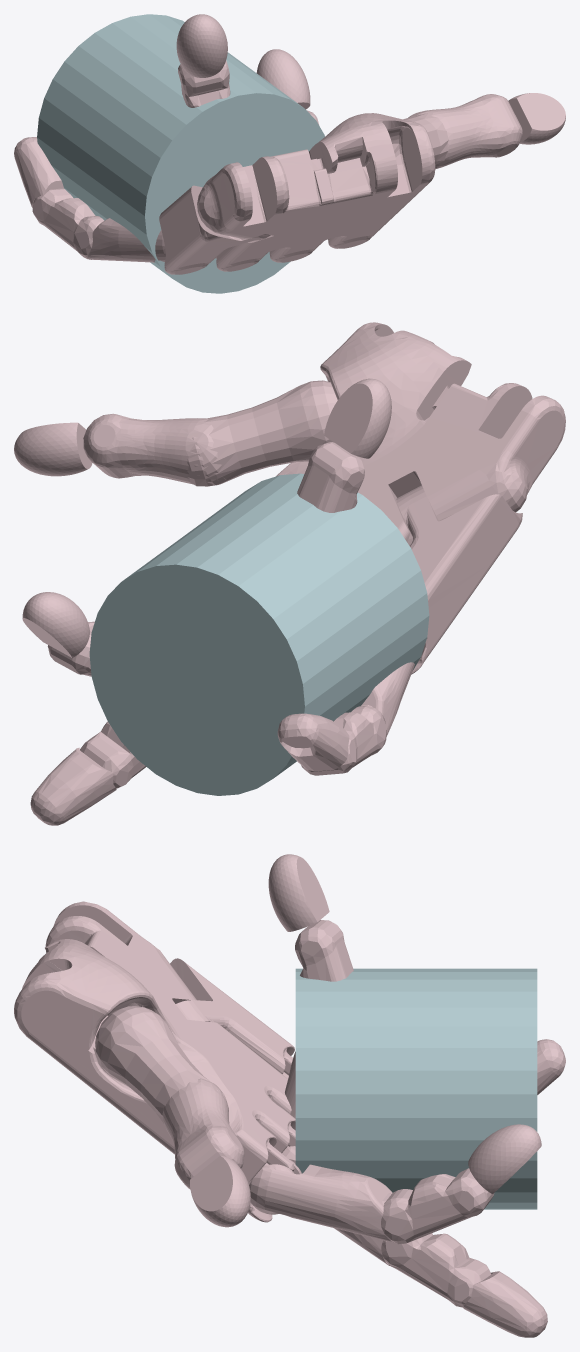
The model's file is grasp_6.glb.
3 renders of one model, top to bottom at view 1: azimuth 30°, elevation 25°; view 2: azimuth 150°, elevation 25°; view 3: azimuth 270°, elevation 25°, orthographic. The views are drawn at different scales.
Parts seen in each view (by area): view 1: world; view 2: world; view 3: world.
Part boxes in pixels (box(x1,y1,x2,y2)): world: box(14, 14, 565, 293); world: box(14, 322, 565, 825); world: box(14, 854, 565, 1337).
Bounding box in the file's own units: 0.1759 × 0.1412 × 0.1828.
